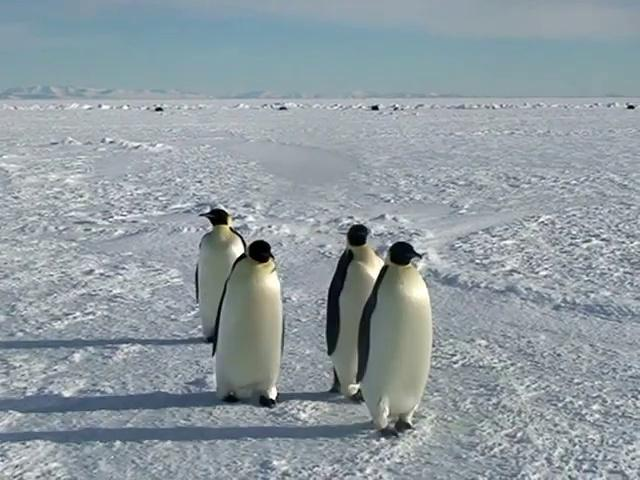animal: (357, 242, 431, 434)
